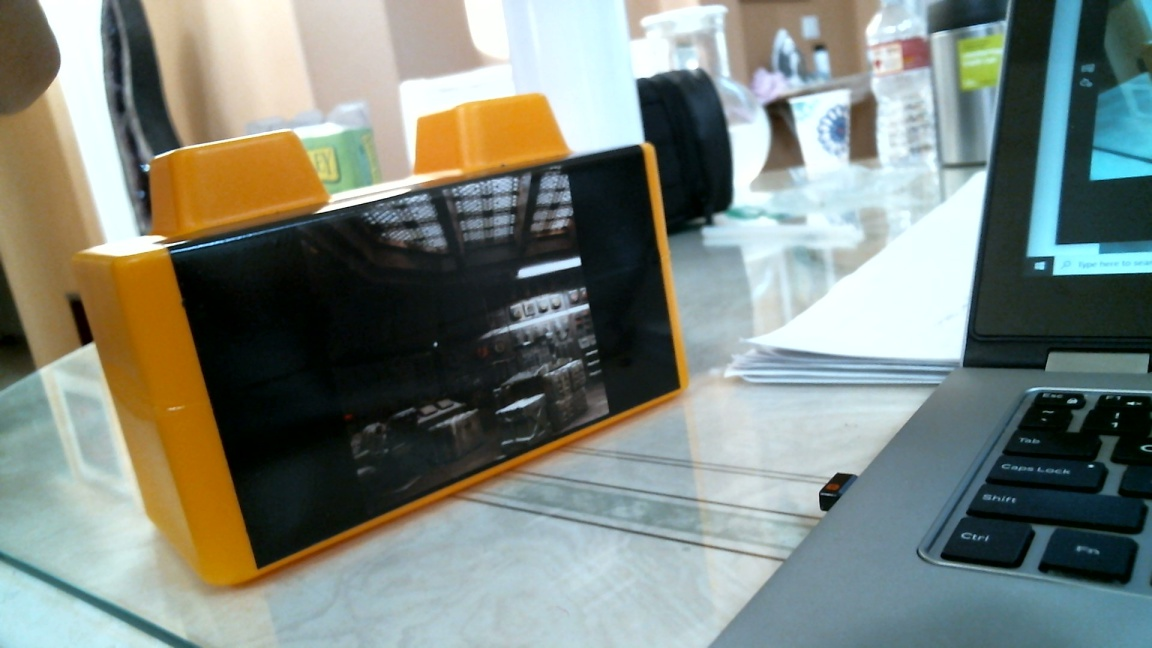skystone: (73, 90, 688, 594)
